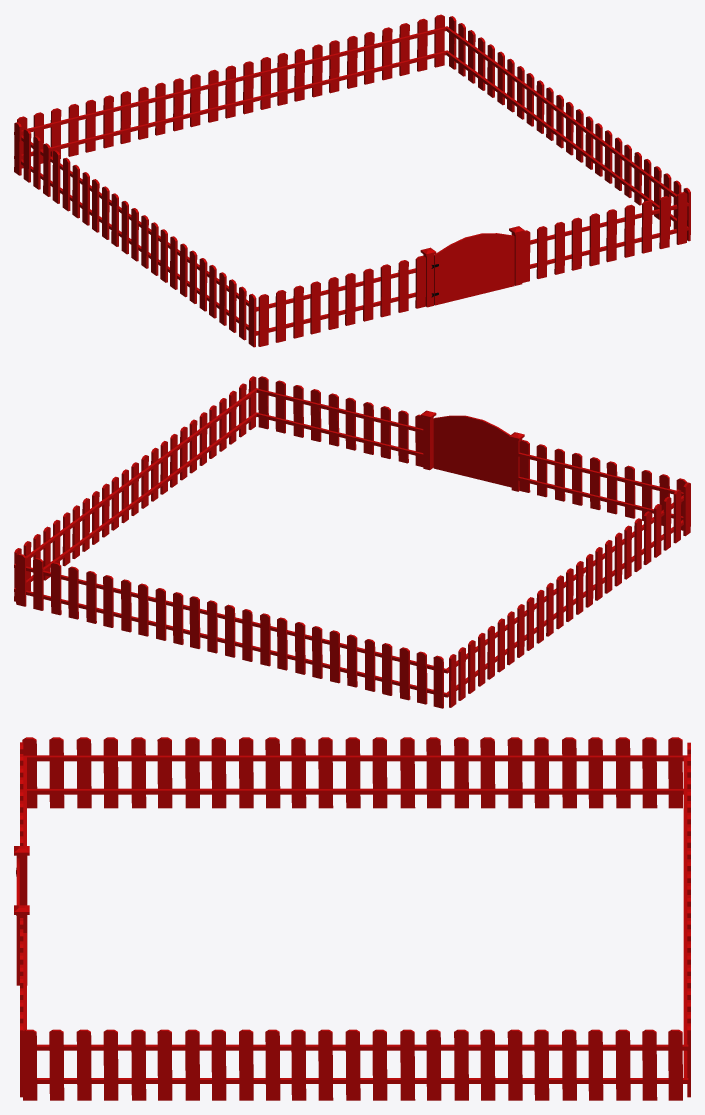
The model's file is valla nueva.fbx.
3 views of the same model, one above another, from view 1: azimuth 30°, elevation 25°; view 2: azimuth 150°, elevation 25°; view 3: azimuth 270°, elevation 25° (orthographic). The views are drawn at different scales.
Parts seen in each view (by area): view 1: Object027; view 2: Object027; view 3: Object027.
Part boxes in pixels (x1,y1,x2,y2): Object027: (14, 14, 690, 347); Object027: (14, 376, 690, 708); Object027: (14, 737, 690, 1100).
Size of the model in its own units: 8.54 by 1.11 by 8.32.
